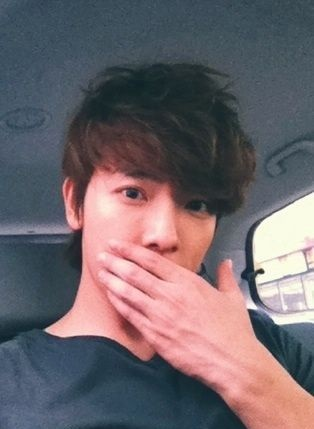face: (86, 125, 218, 330)
